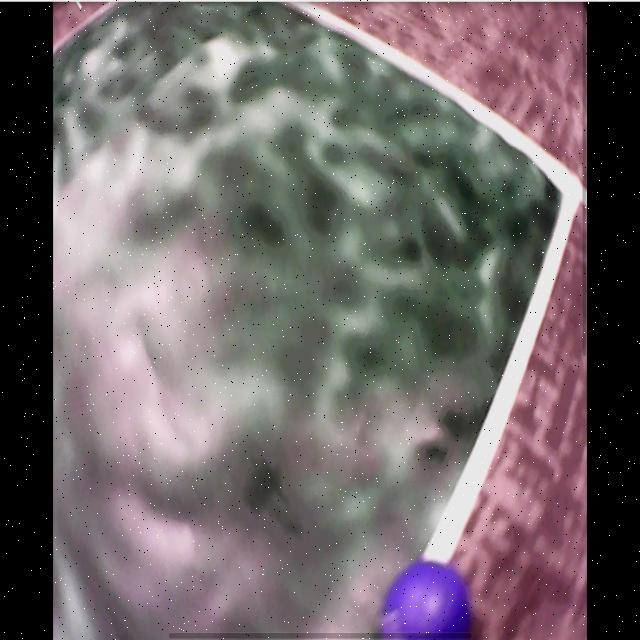ball: (380, 564, 471, 640)
